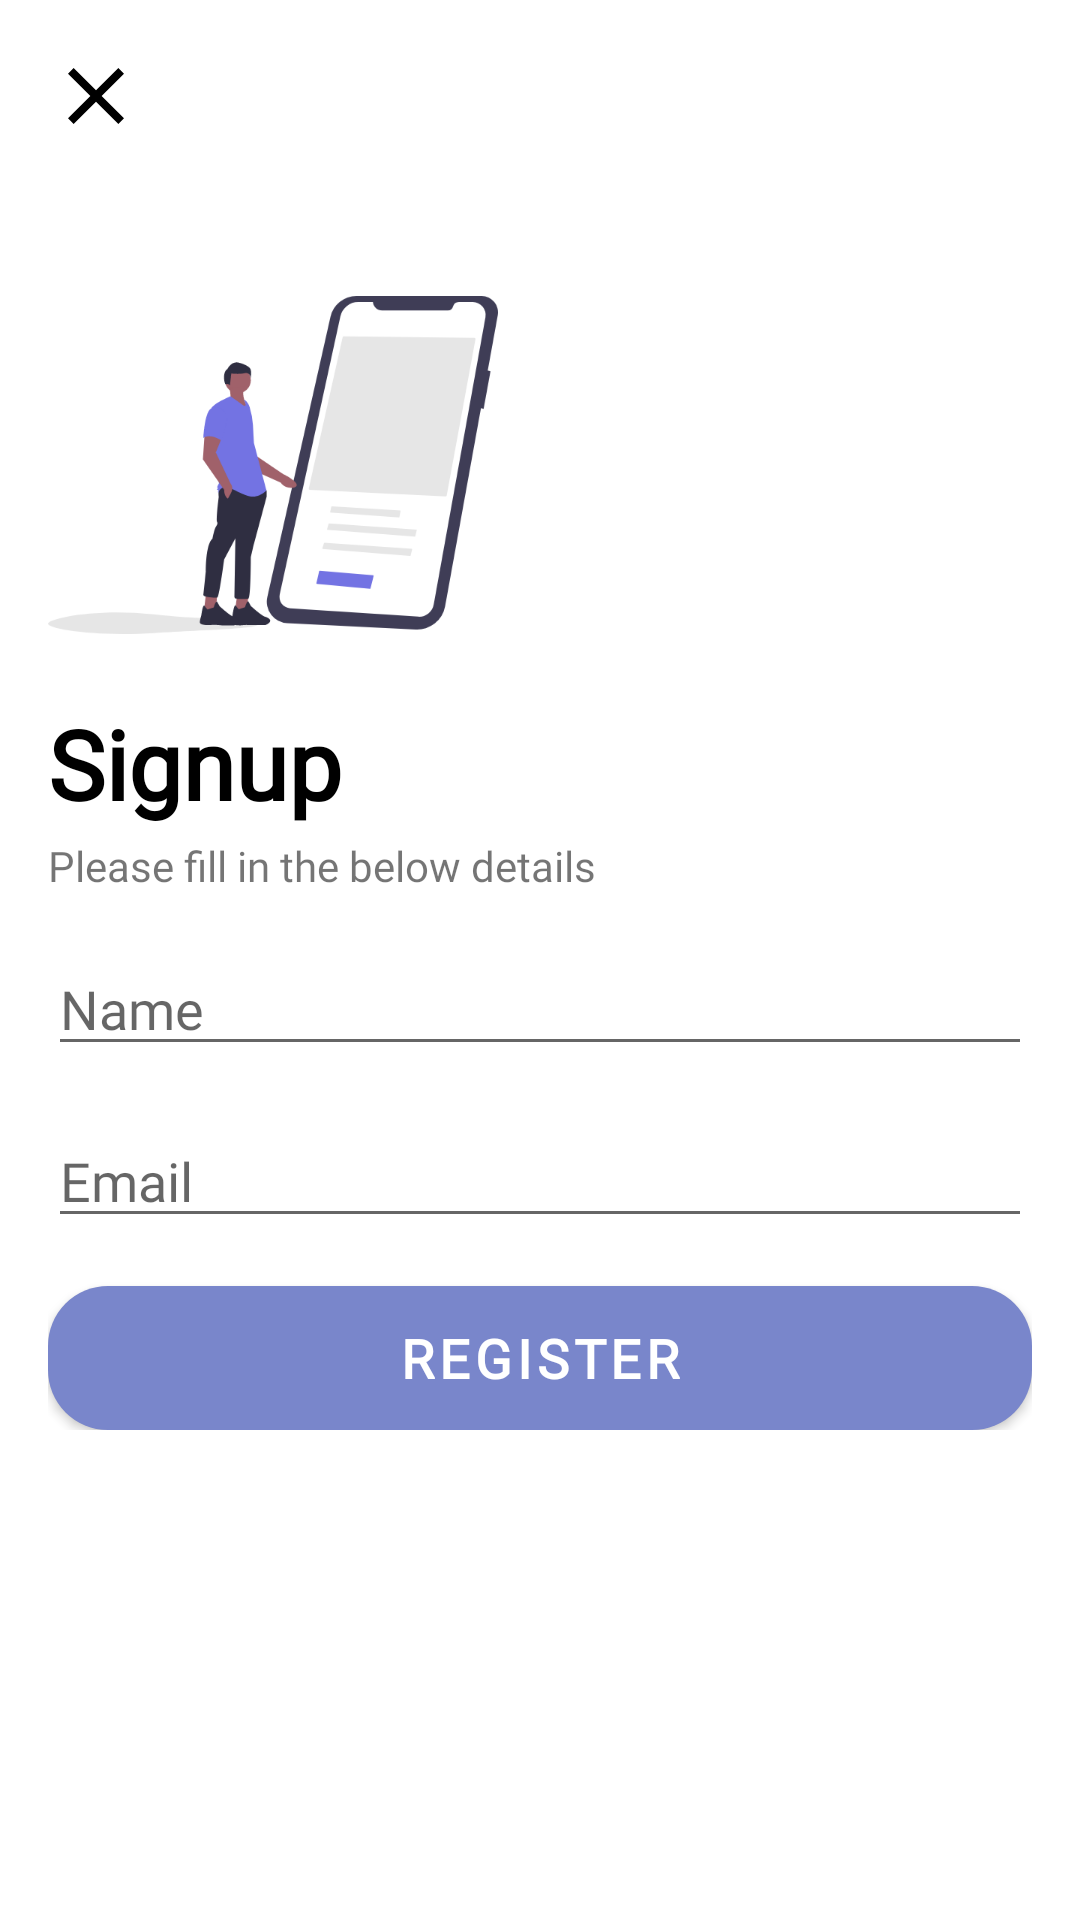

Icon bounding boxes for this 1080px×1920px phone screenshot, format (x1, y1, x2, y2):
close: (68, 68, 124, 124)
